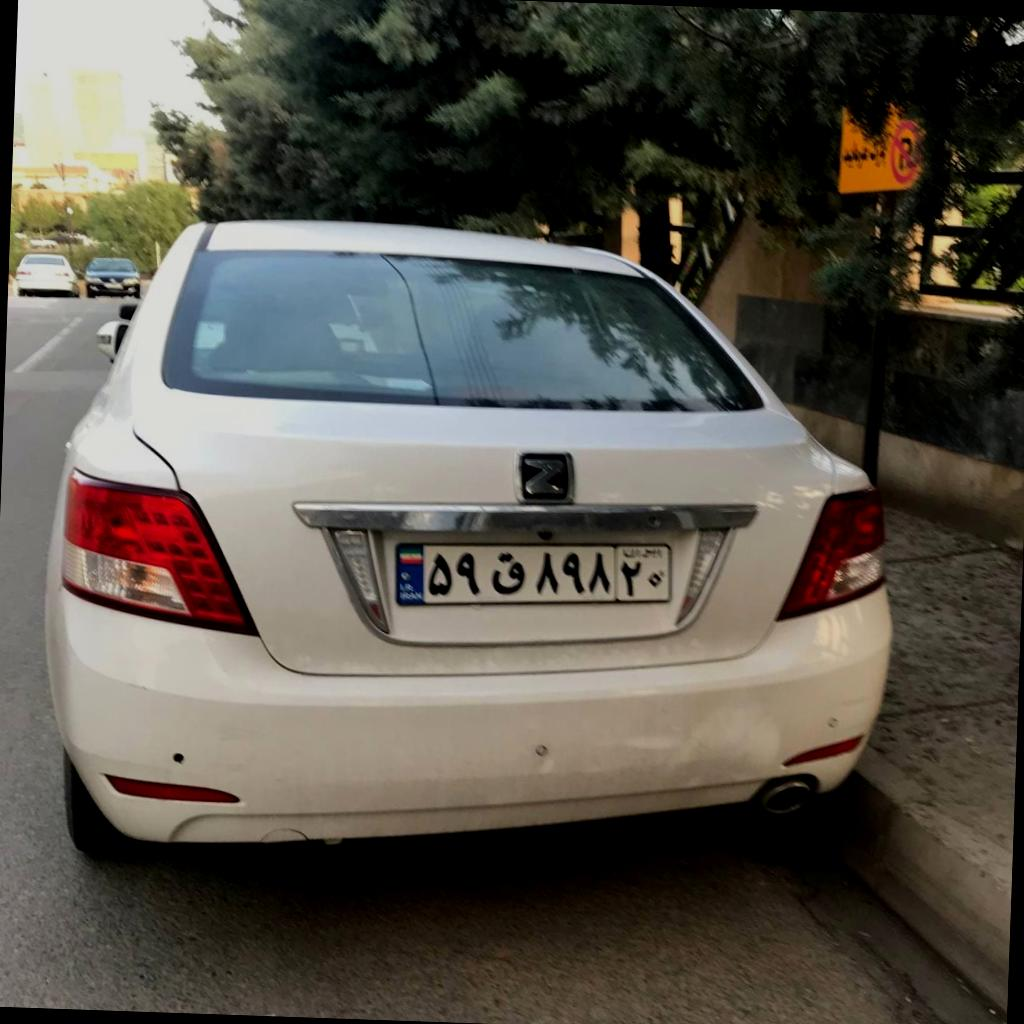Plates: (396, 543, 669, 603)
